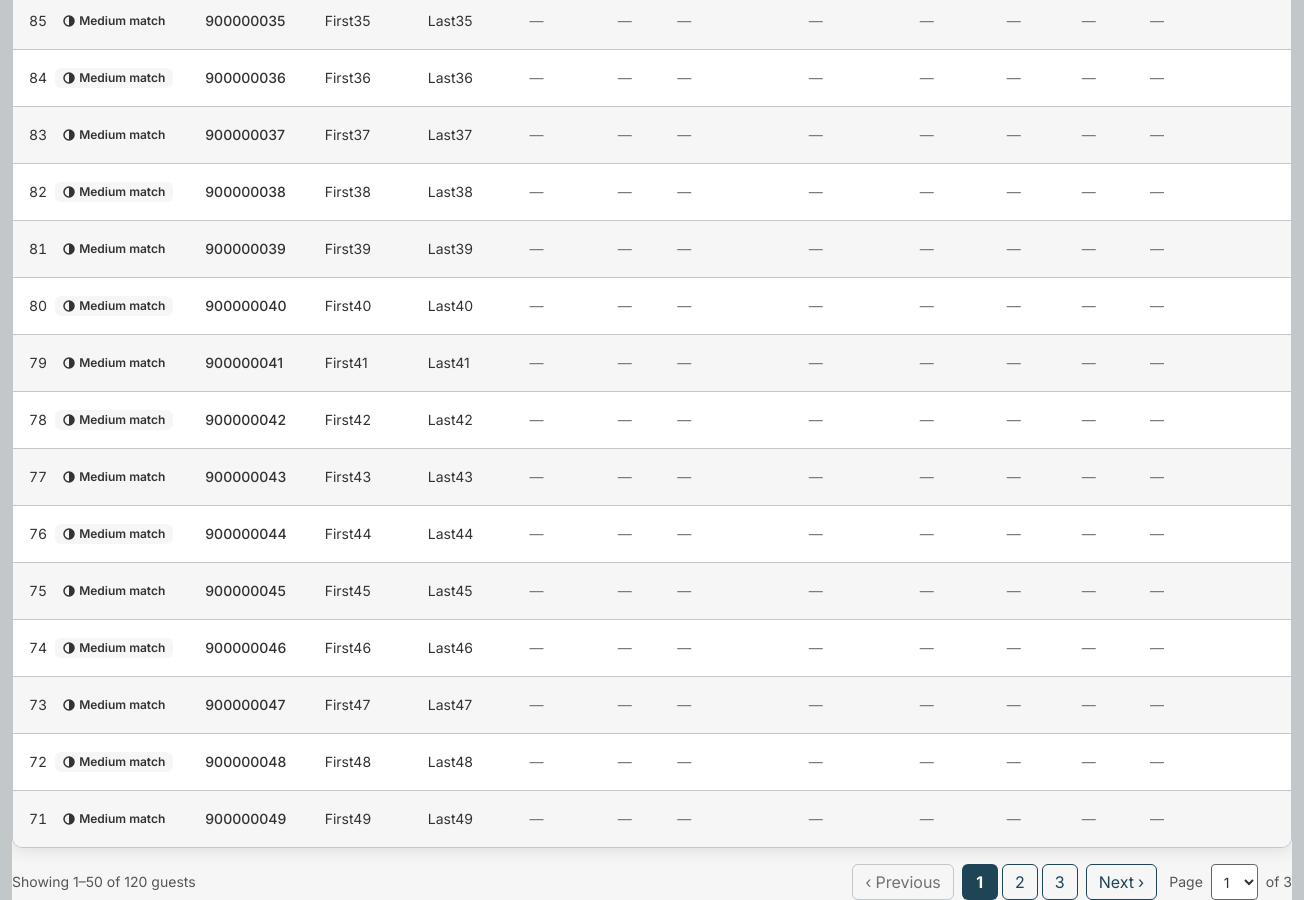
Test case: Pagination — sort resets to page 1 (Req 17.8) › returns to page 1 when the sort column changes
(page scrolled)
Click the button with aria-label "next page".
click(1122, 882)  # box top-left (1086, 864), bottom-right (1157, 899)
(page scrolled)
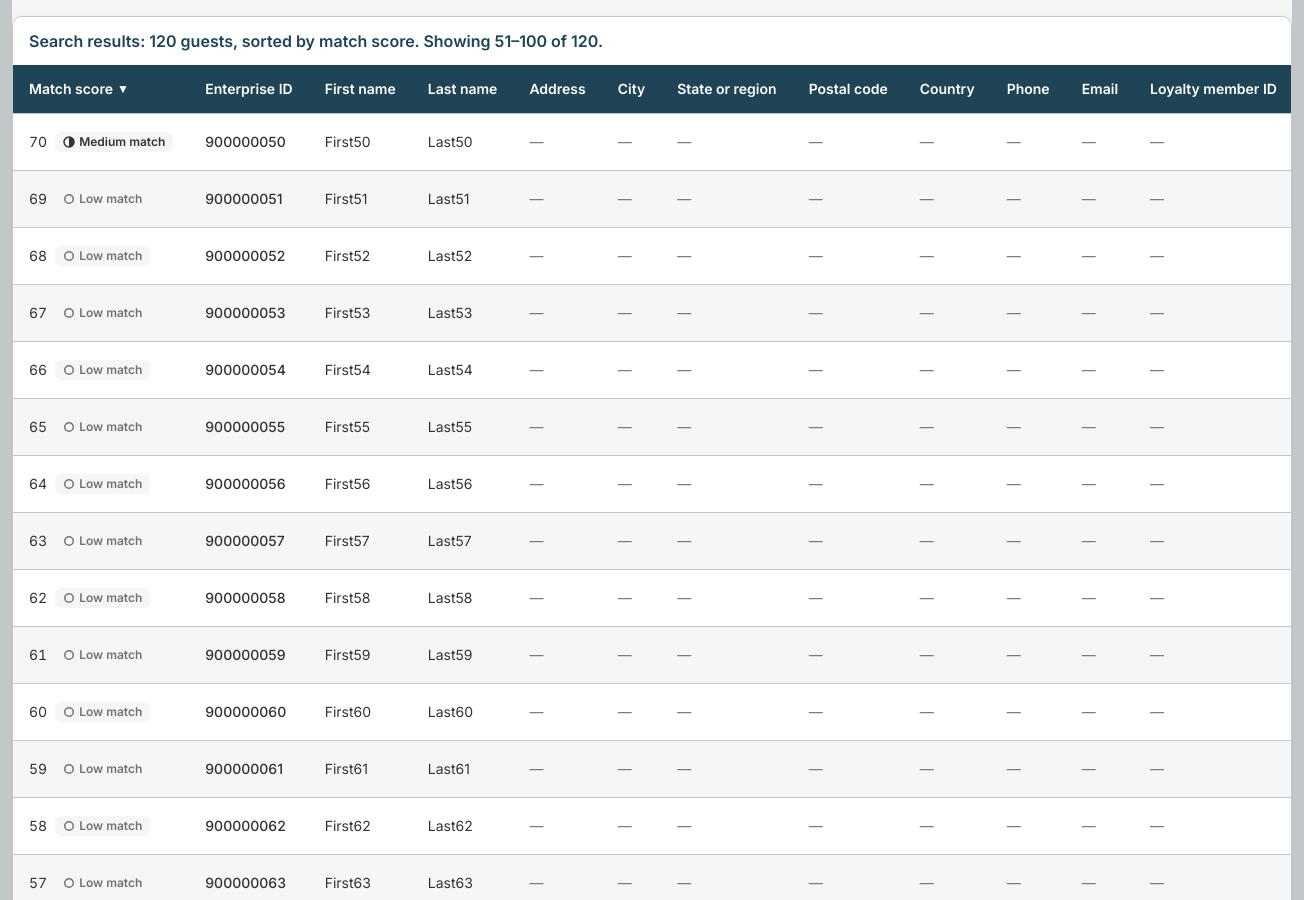
# Change the sort: should snap back to page 1.
Click the button "Last name".
click(463, 89)  # box top-left (428, 77), bottom-right (497, 101)
(page scrolled)
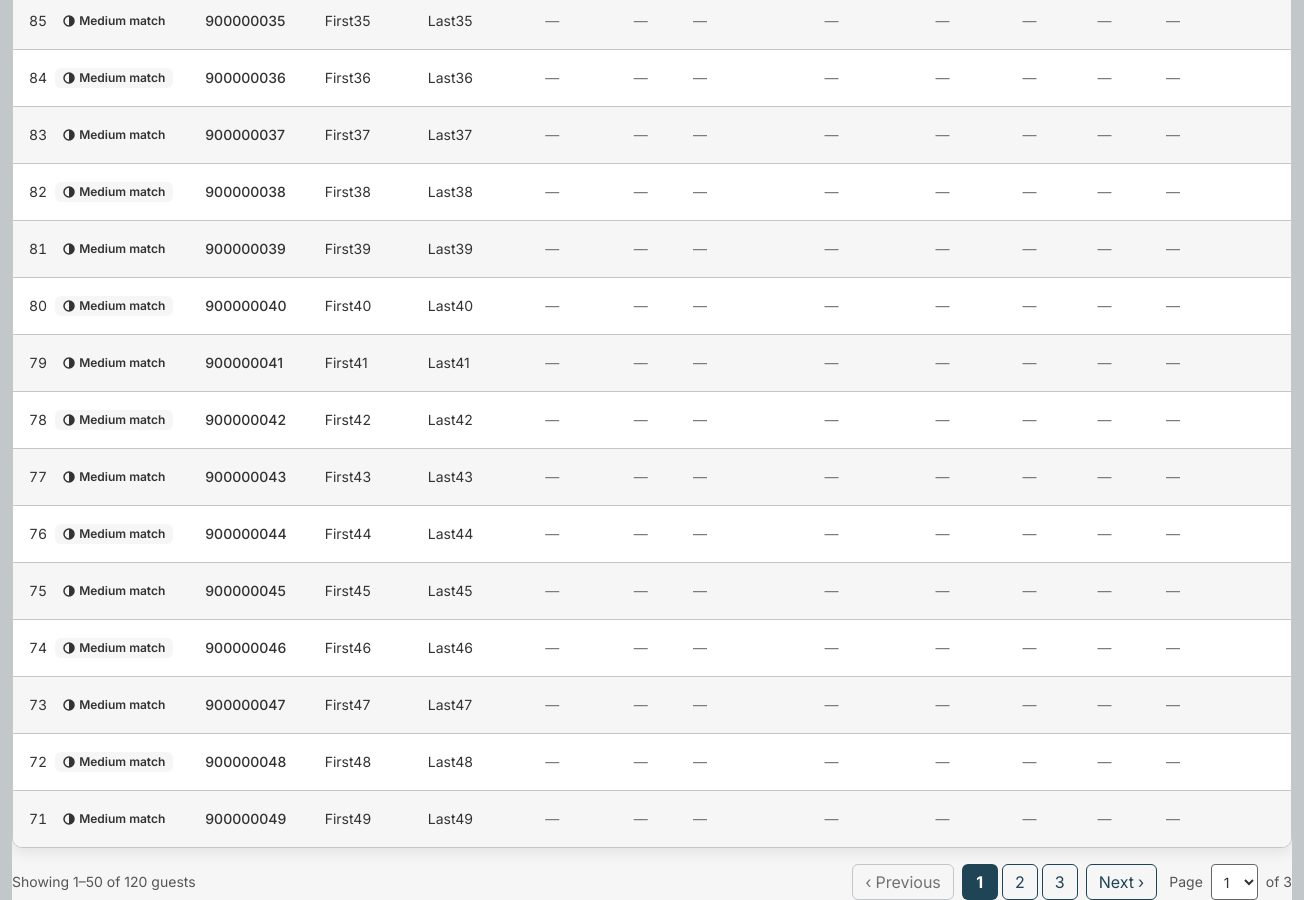
expect the button "1" is shown: met, box top-left (962, 864), bottom-right (998, 899)
expect the text with test id "pagination-range" shows "Showing 1–50": met, box top-left (12, 872), bottom-right (196, 892)
